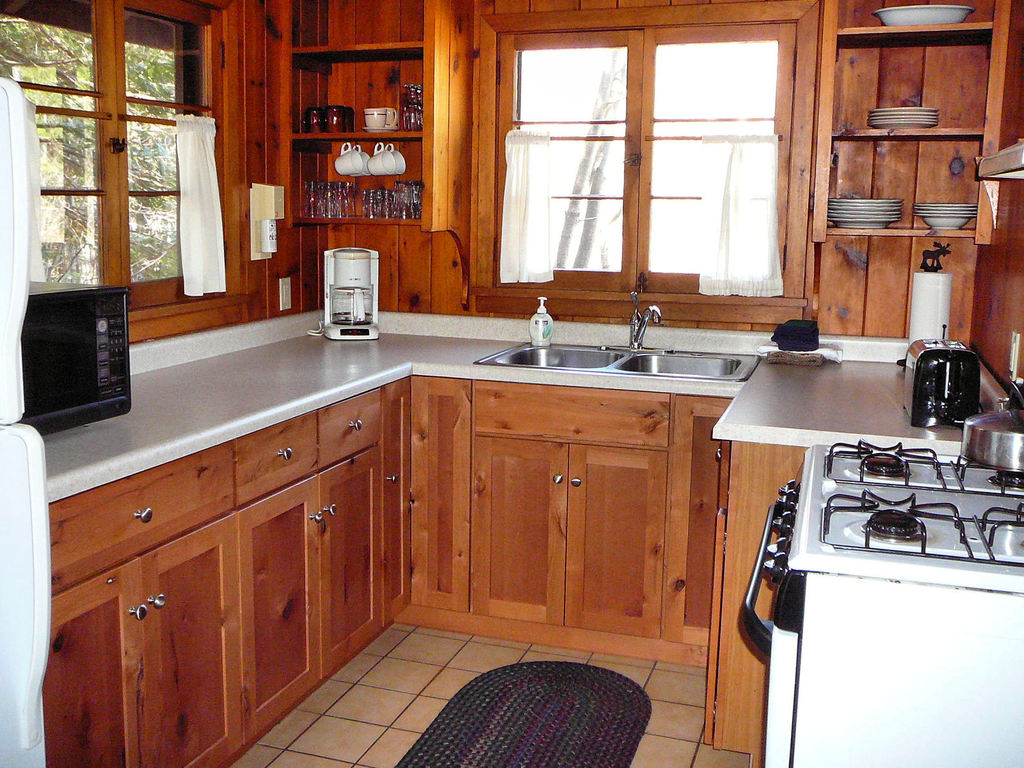cabinet door: (147, 553, 241, 758), (54, 583, 152, 766), (479, 443, 571, 612), (568, 451, 657, 620), (251, 493, 322, 698), (327, 467, 383, 634), (55, 486, 237, 534), (382, 397, 415, 614), (321, 401, 383, 459), (241, 435, 313, 480)
handle: (735, 507, 787, 649), (276, 434, 300, 473), (121, 598, 150, 629), (126, 502, 158, 530), (146, 585, 170, 617), (546, 463, 569, 495), (346, 404, 367, 437), (323, 490, 342, 522), (567, 465, 587, 495), (312, 502, 326, 530), (386, 467, 401, 493)
